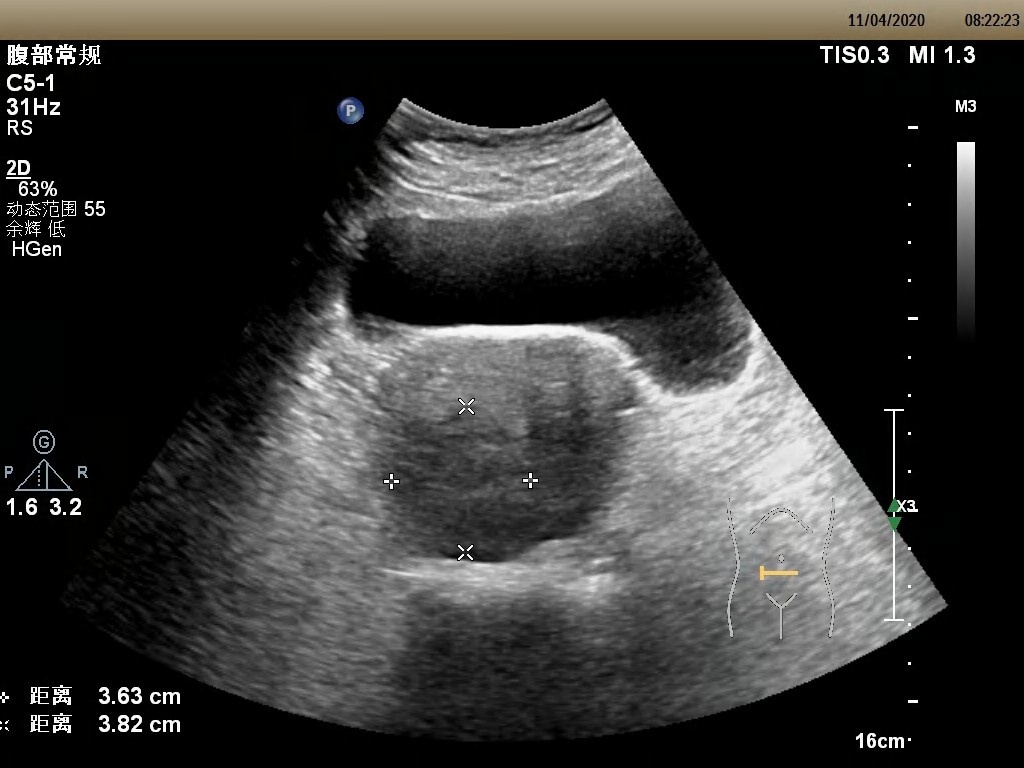肌瘤: (391, 410, 531, 553)
